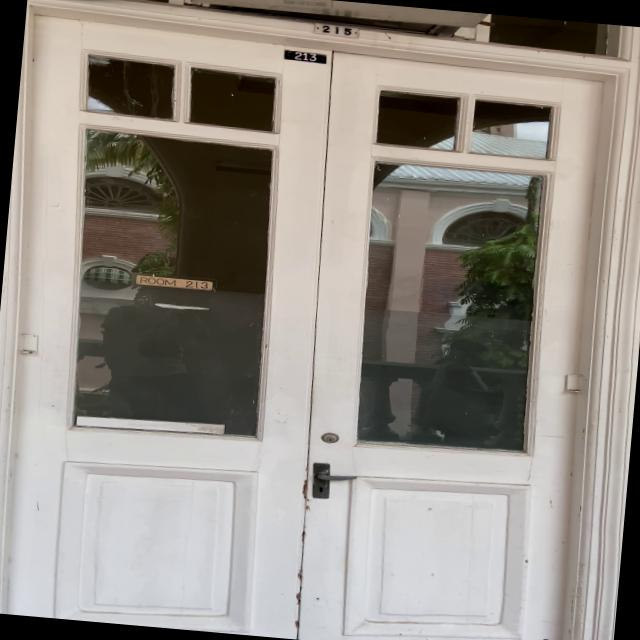room213: (279, 48, 327, 65)
room213Window: (127, 268, 221, 294)
